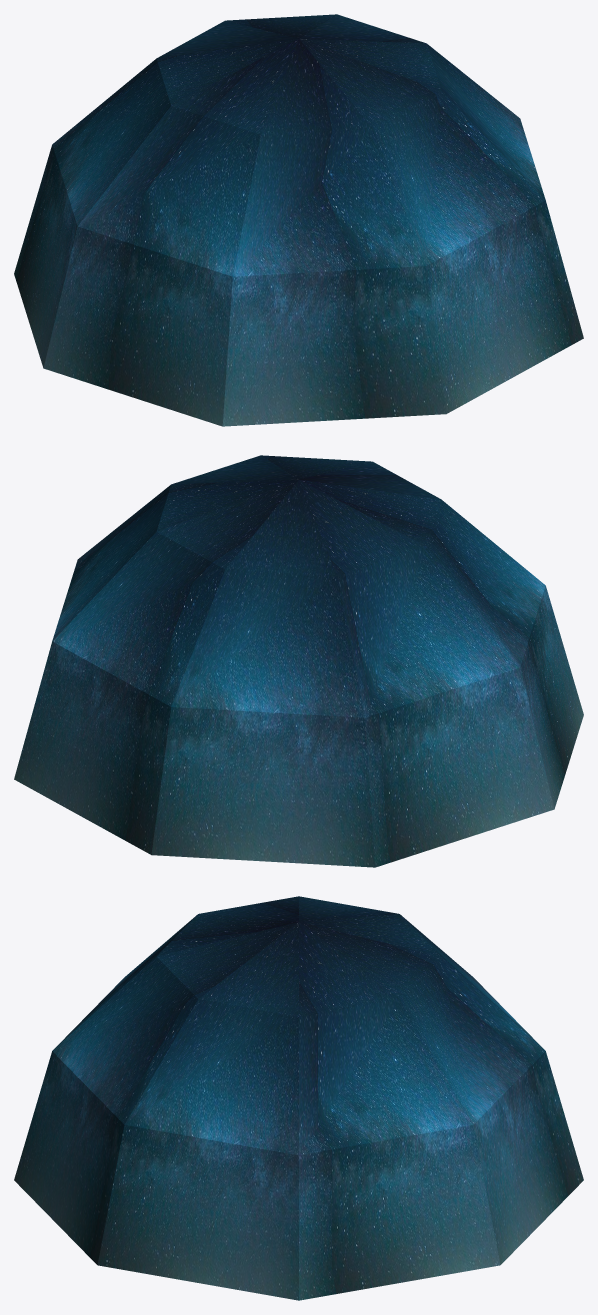
File: the map.fbx
The picture shows the model from 3 angles, top to bottom: view 1: azimuth 30°, elevation 25°; view 2: azimuth 150°, elevation 25°; view 3: azimuth 270°, elevation 25°; orthographic projection. The views are drawn at different scales.
Visible parts, largest first — view 1: pPlane81; view 2: pPlane81; view 3: pPlane81.
Part boxes in pixels (left/top/right/bottom): pPlane81: left=14, top=14, right=583, bottom=426; pPlane81: left=14, top=455, right=583, bottom=867; pPlane81: left=14, top=896, right=583, bottom=1300.
Bounding box in the file's own units: 525 × 263 × 525.
